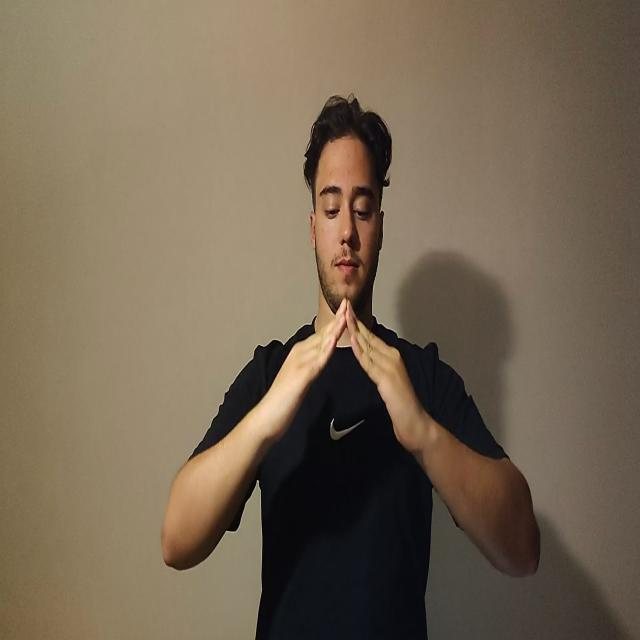house: (261, 295, 424, 455)
